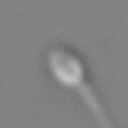normal: (74, 79, 113, 128)
